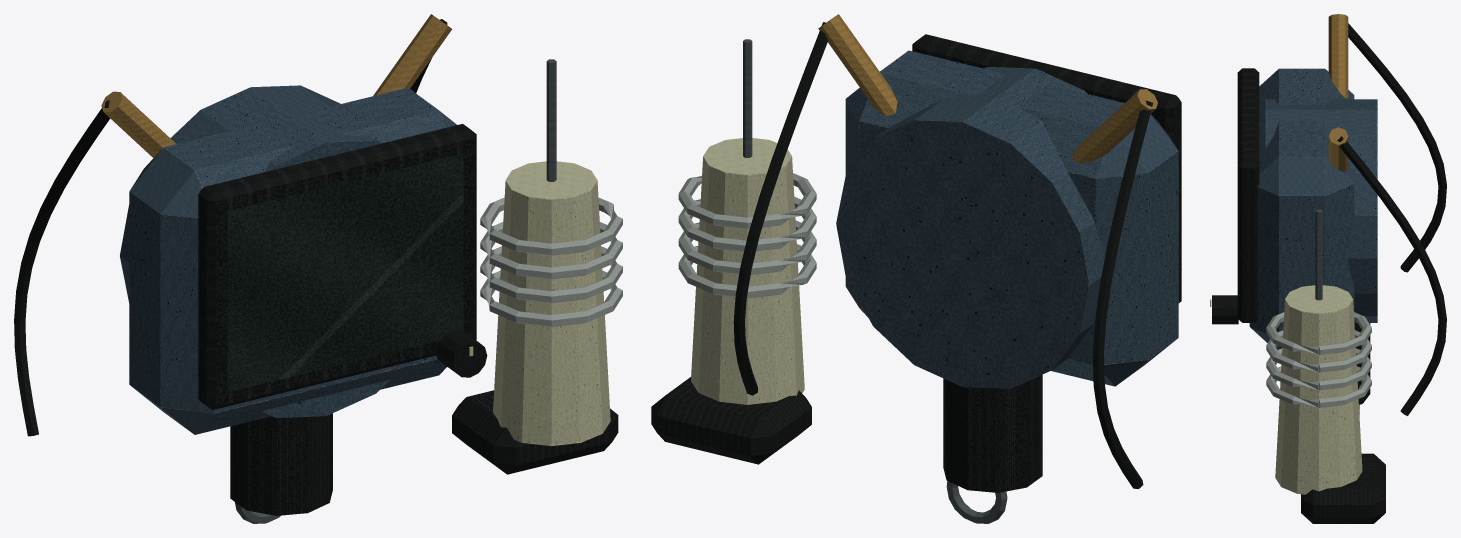
Rendered from blender_barometric_probe_3.glb.
The picture shows the model from 3 angles, left to right: view 1: azimuth 30°, elevation 25°; view 2: azimuth 150°, elevation 25°; view 3: azimuth 270°, elevation 25°; orthographic projection. The views are drawn at different scales.
Visible parts, largest first — view 1: blender_barometric_probe_3; view 2: blender_barometric_probe_3; view 3: blender_barometric_probe_3.
Part boxes in pixels (bbox=[...]): blender_barometric_probe_3: bbox=[14, 14, 622, 523]; blender_barometric_probe_3: bbox=[651, 14, 1181, 523]; blender_barometric_probe_3: bbox=[1210, 14, 1446, 523].
Bounding box in the file's own units: 0.186 × 0.1607 × 0.0973.
Materials: 7 (7 with a texture image).
